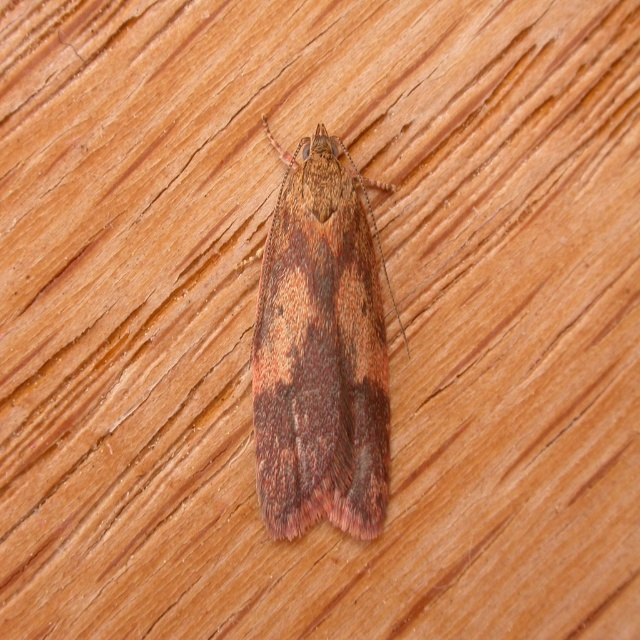Butterfly: (239, 103, 406, 551)
